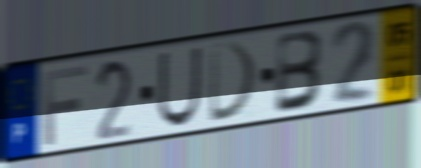2: (328, 17, 378, 110), (94, 57, 137, 143)
B: (272, 28, 327, 118)
D: (207, 39, 261, 127)
F: (41, 62, 90, 149)
U: (155, 44, 204, 130)
